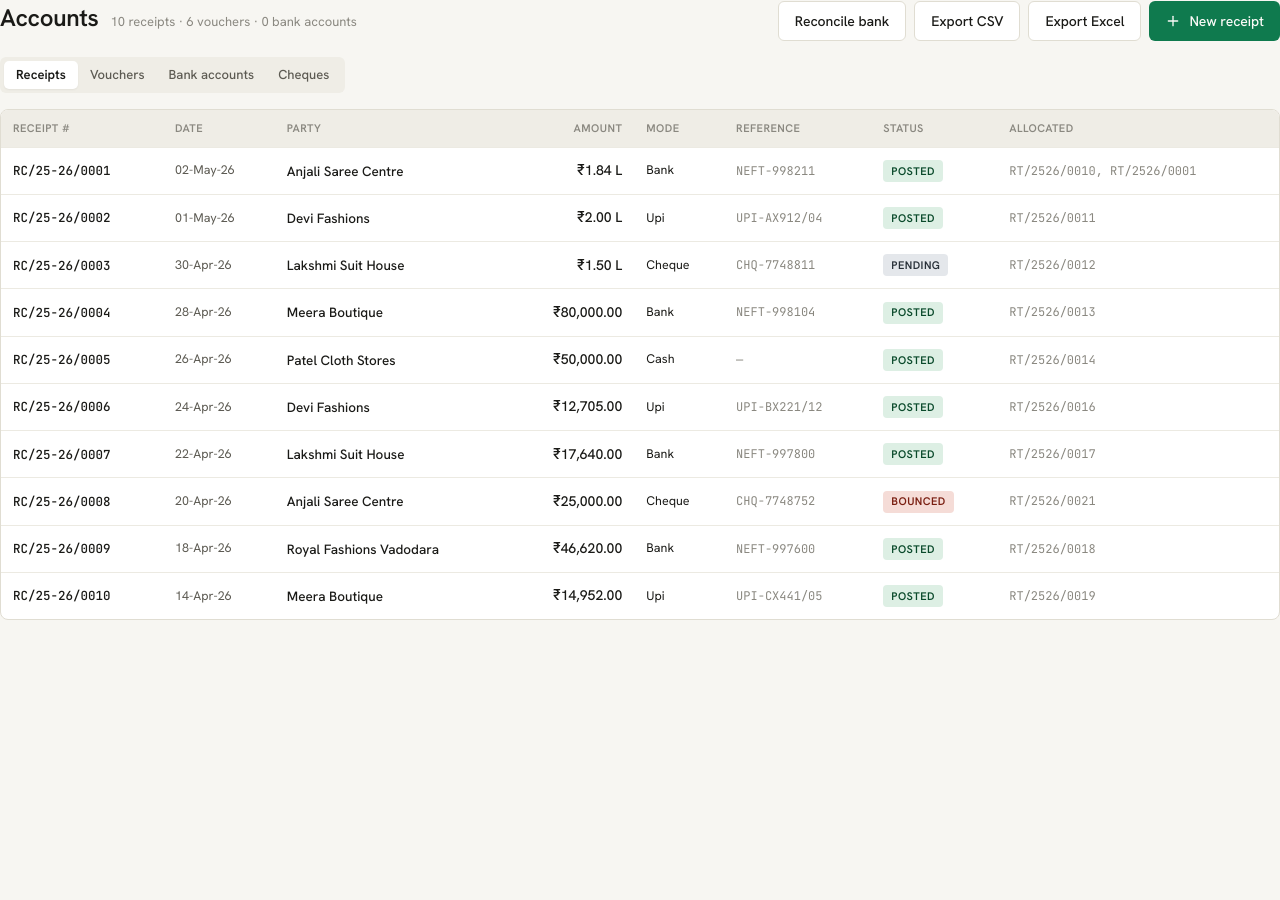
AccountingHub › "+ New voucher" opens the journal voucher dialog (TASK-TR-C01)
The image size is (1280, 900).
Expected: the text "RC/25-26/0001" is shown, x1=13 y1=162 x2=110 y2=179
Click the tab "Vouchers". click: (117, 75)
box: x1=78 y1=61 x2=156 y2=89
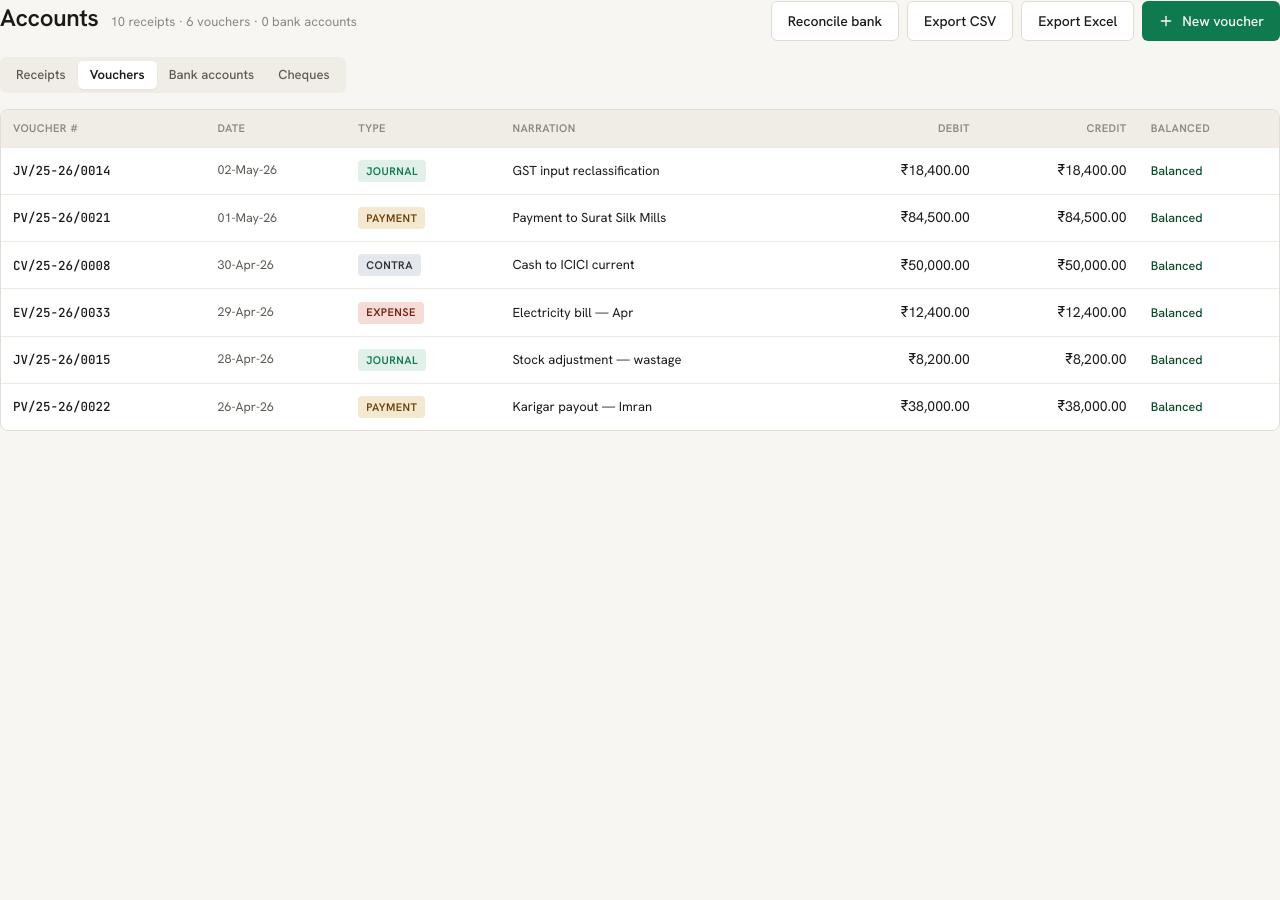
Click the button "New voucher". click: (1211, 21)
box: x1=1142 y1=1 x2=1279 y2=41
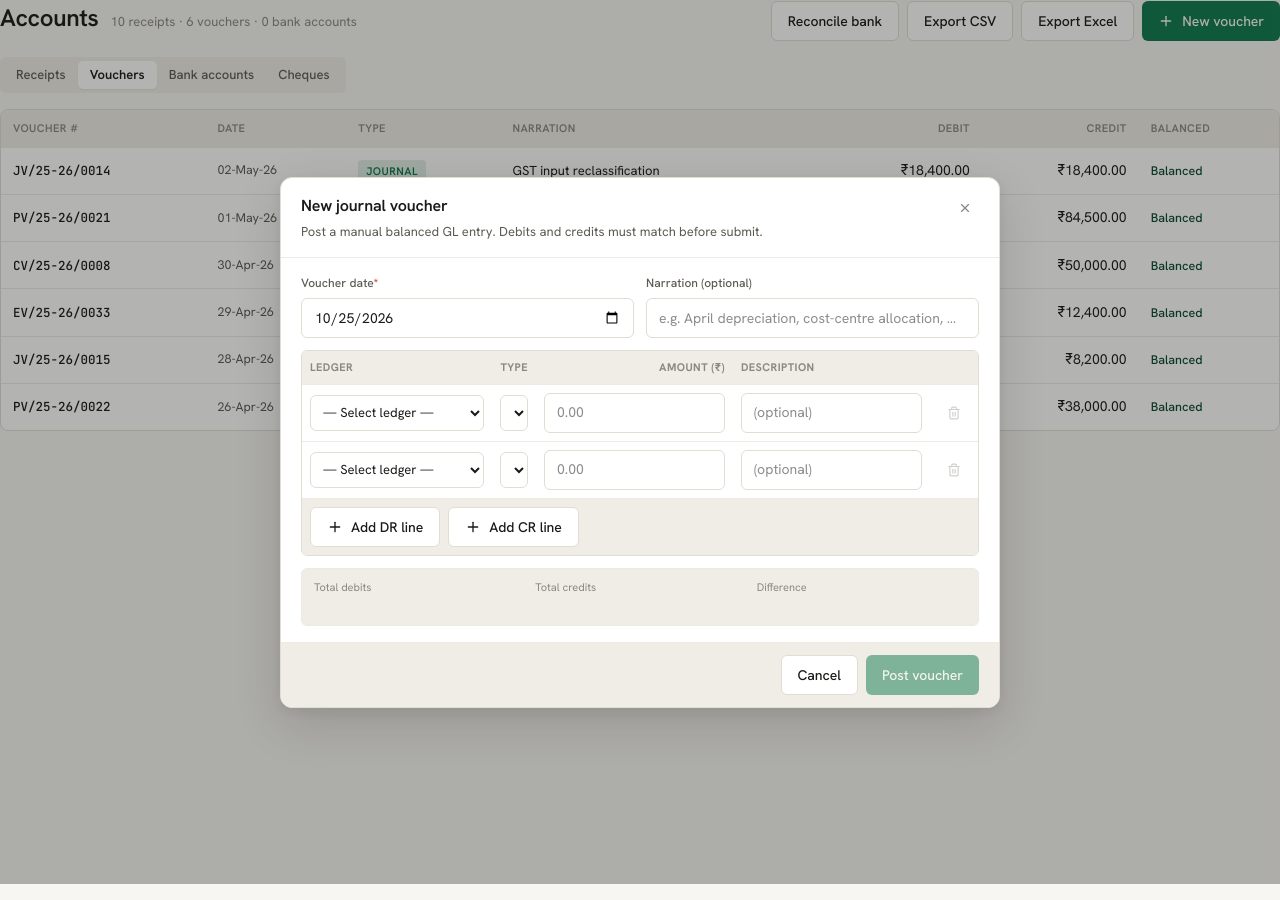
Now the dialog "New journal voucher" is shown
Now the dropdown named "line 1 ledger" is shown, box x1=310 y1=394 x2=484 y2=430
Now the dropdown named "line 2 ledger" is shown, box x1=310 y1=452 x2=484 y2=488
